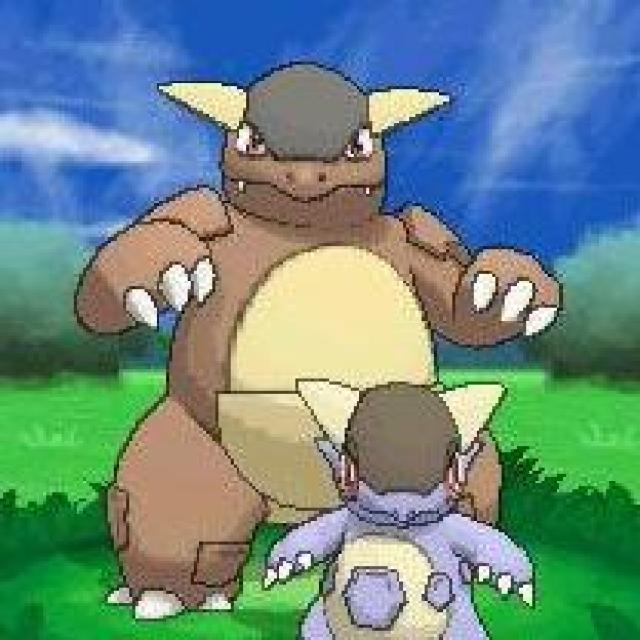Kangaskhan: (72, 62, 552, 617)
